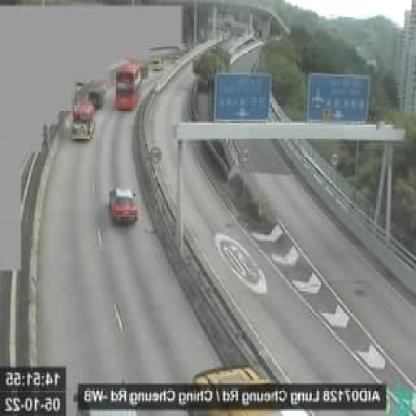Bus: (117, 62, 143, 110)
Car: (109, 186, 138, 223)
Minibus: (72, 101, 96, 142)
